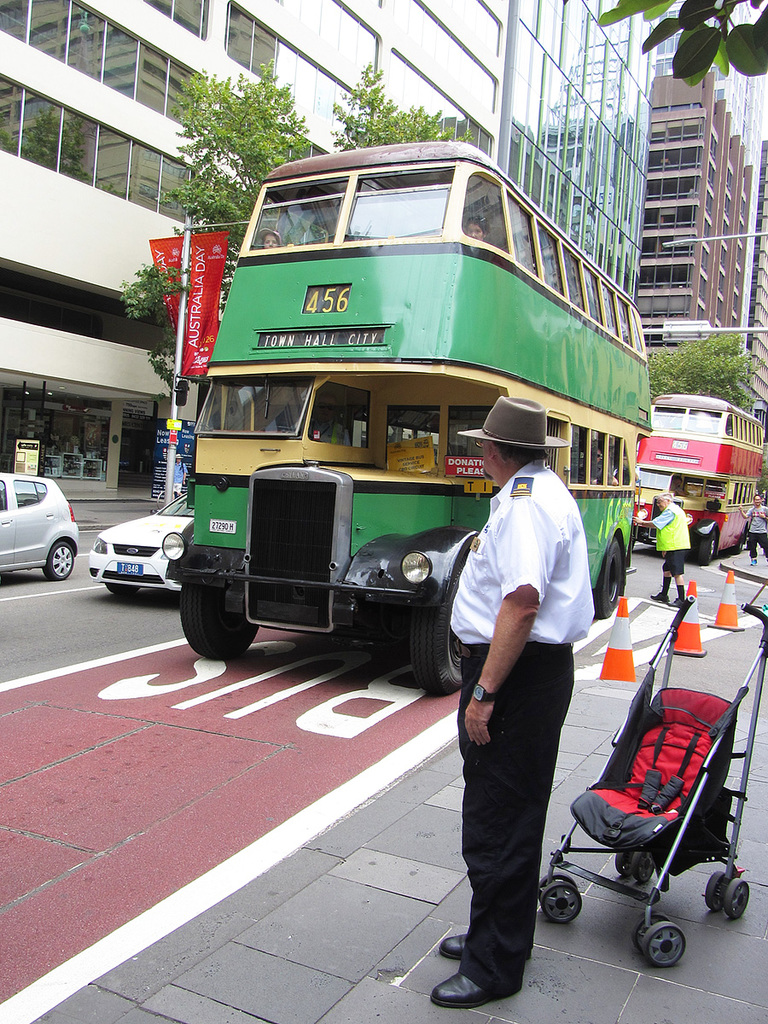Car: (79, 490, 188, 599), (0, 464, 79, 583)
